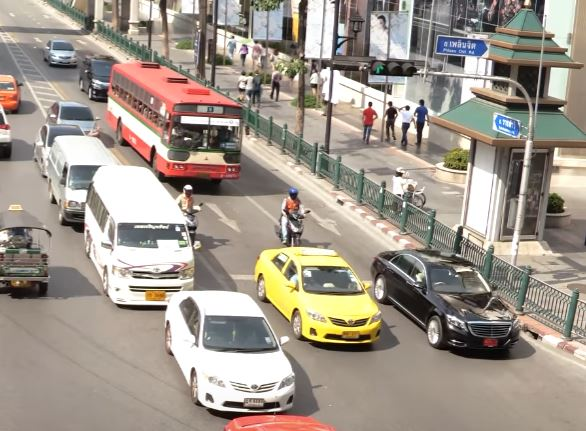Bus: (107, 59, 242, 185), (84, 165, 196, 307), (50, 136, 108, 225)
Car: (165, 290, 298, 414), (372, 248, 520, 356), (254, 245, 385, 351), (33, 122, 81, 172), (48, 99, 102, 141), (77, 54, 117, 102), (44, 38, 78, 67)
Motorcycle: (276, 187, 308, 247), (176, 182, 203, 246)
TukTuk: (1, 204, 52, 295)
